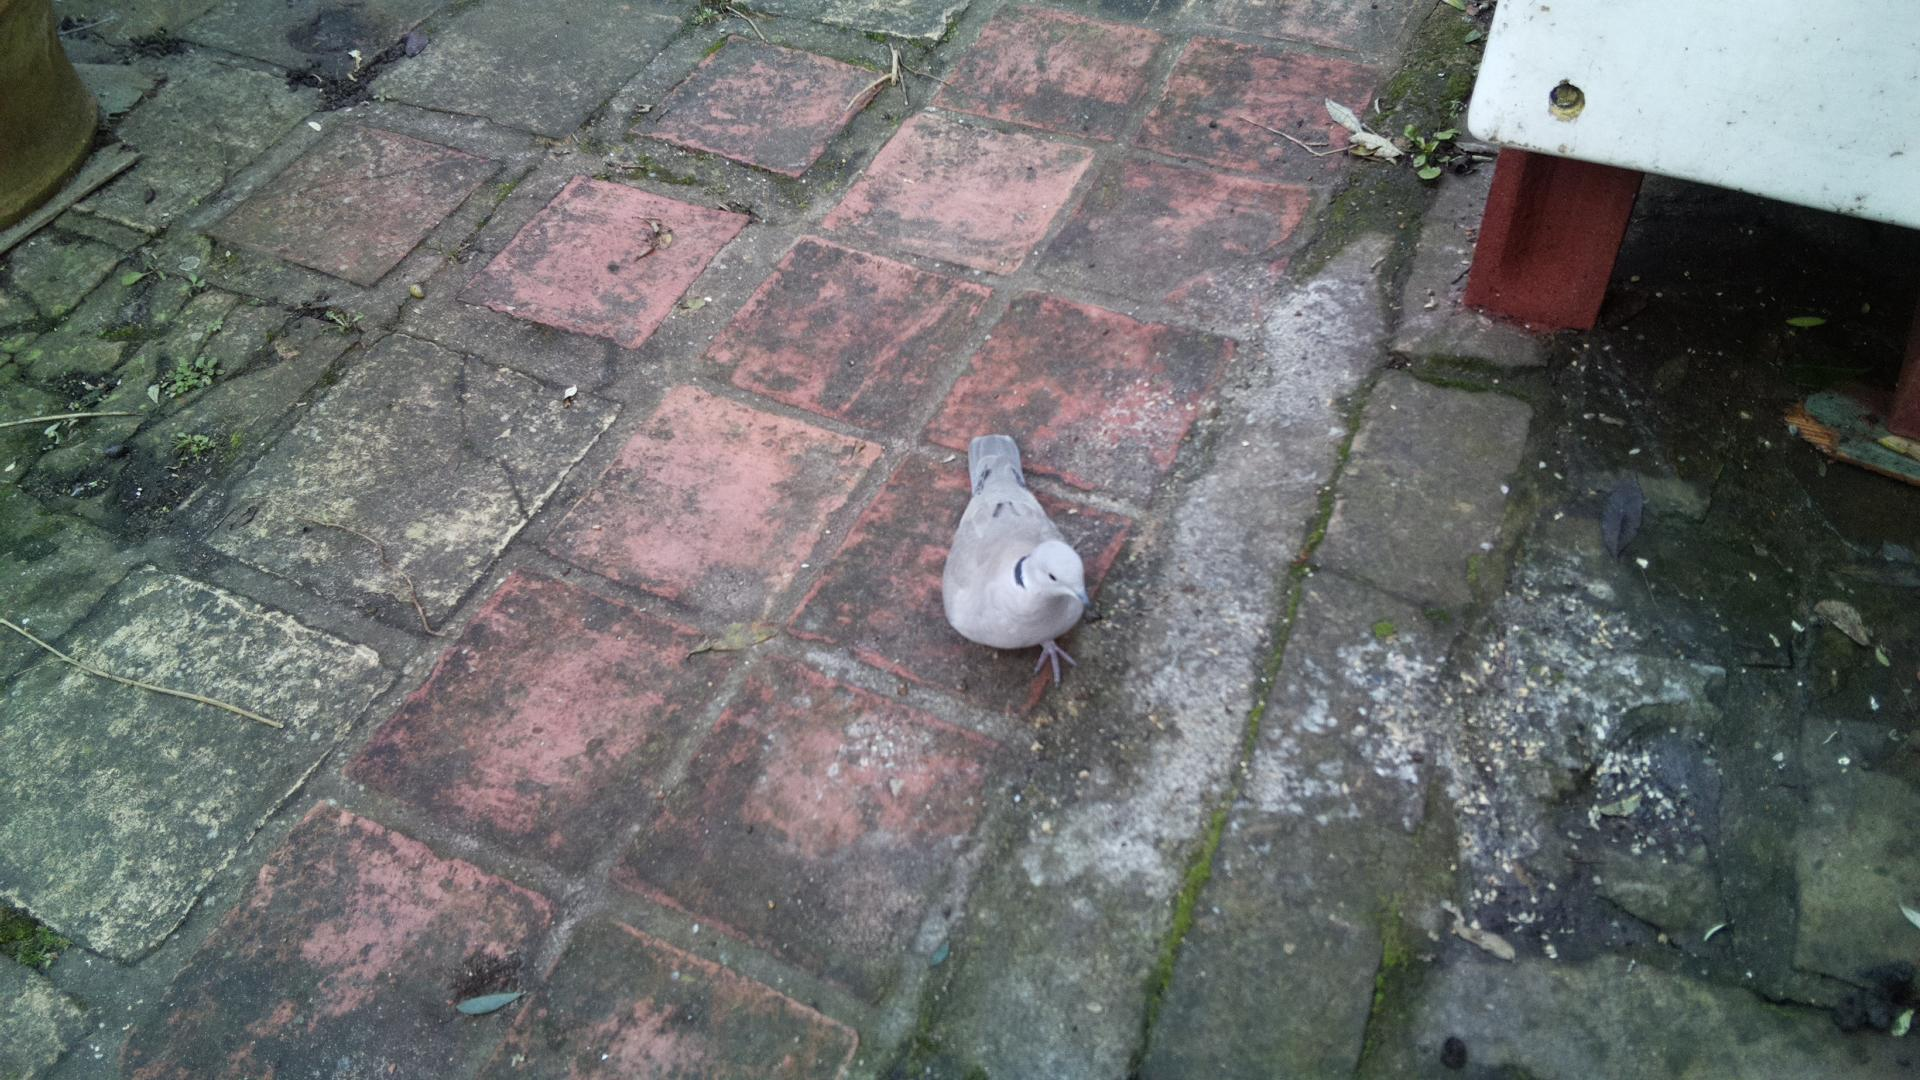collared dove: (940, 433, 1092, 688)
